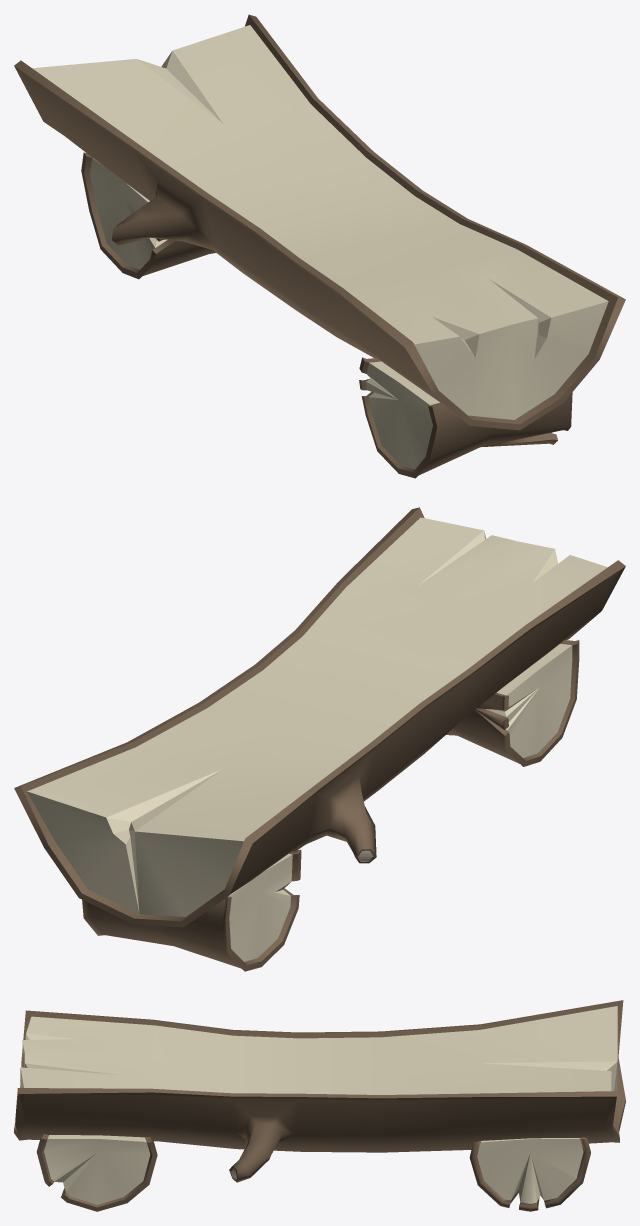
The model's file is P_bench_02_LD.fbx.
The picture shows the model from 3 angles, top to bottom: view 1: azimuth 30°, elevation 25°; view 2: azimuth 150°, elevation 25°; view 3: azimuth 270°, elevation 25°; orthographic projection. The views are drawn at different scales.
Visible parts, largest first — view 1: P_bench_02; view 2: P_bench_02; view 3: P_bench_02.
Part boxes in pixels (x1,y1,x2,y2): P_bench_02: (14,14,625,478); P_bench_02: (14,507,625,971); P_bench_02: (14,1000,625,1211).
Bounding box in the file's own units: 66.74 × 45.83 × 179.
Materials: 1 (1 with a texture image).
